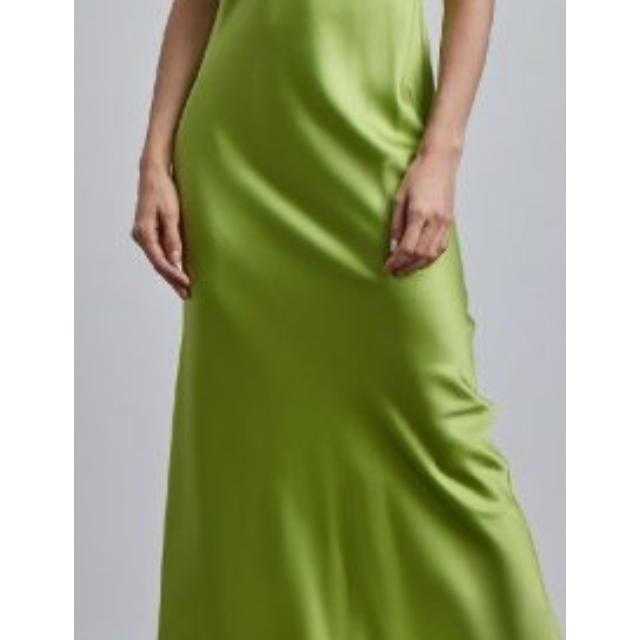silk: (156, 0, 566, 640)
